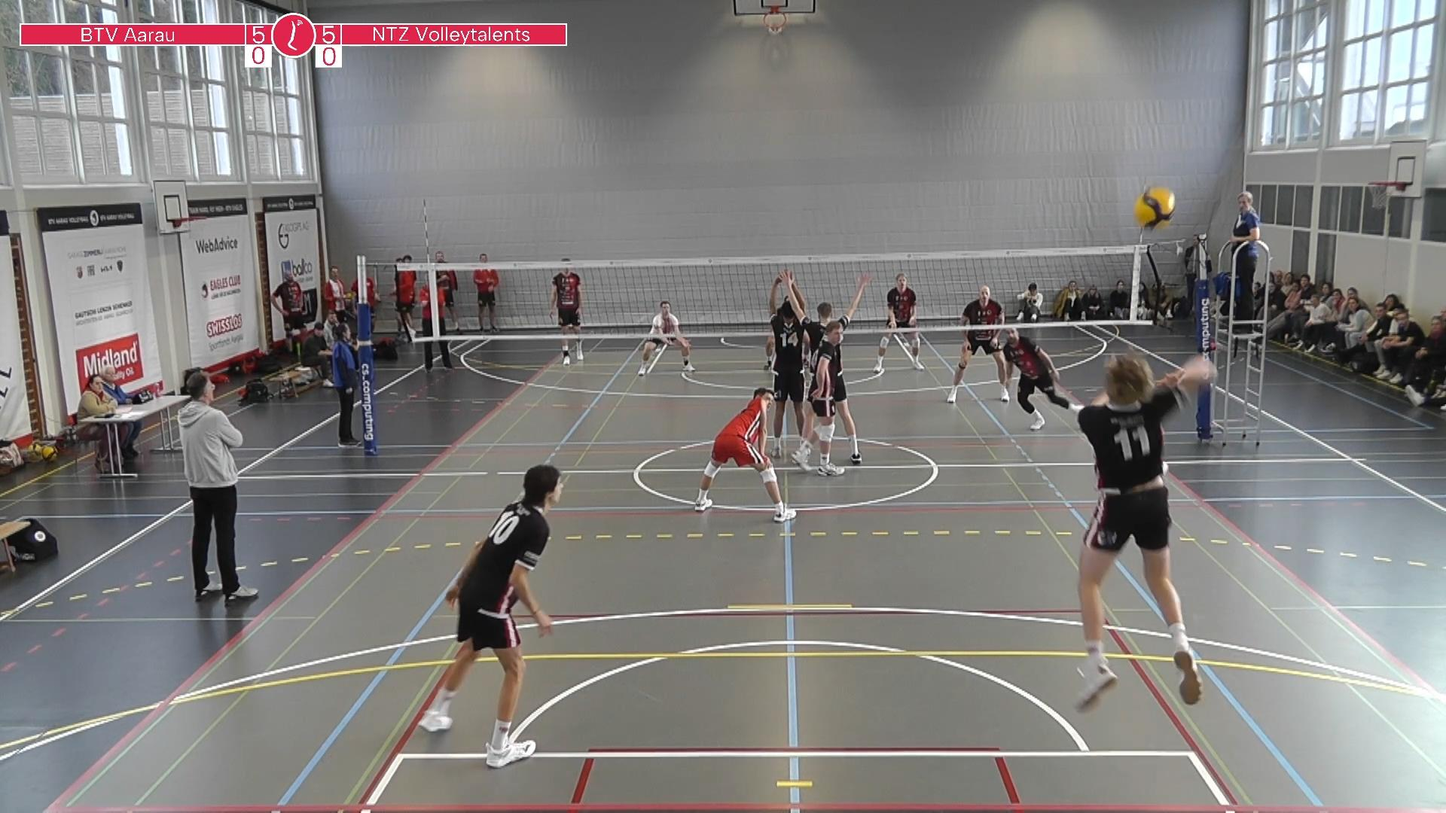battuta: (1056, 341, 1222, 691)
